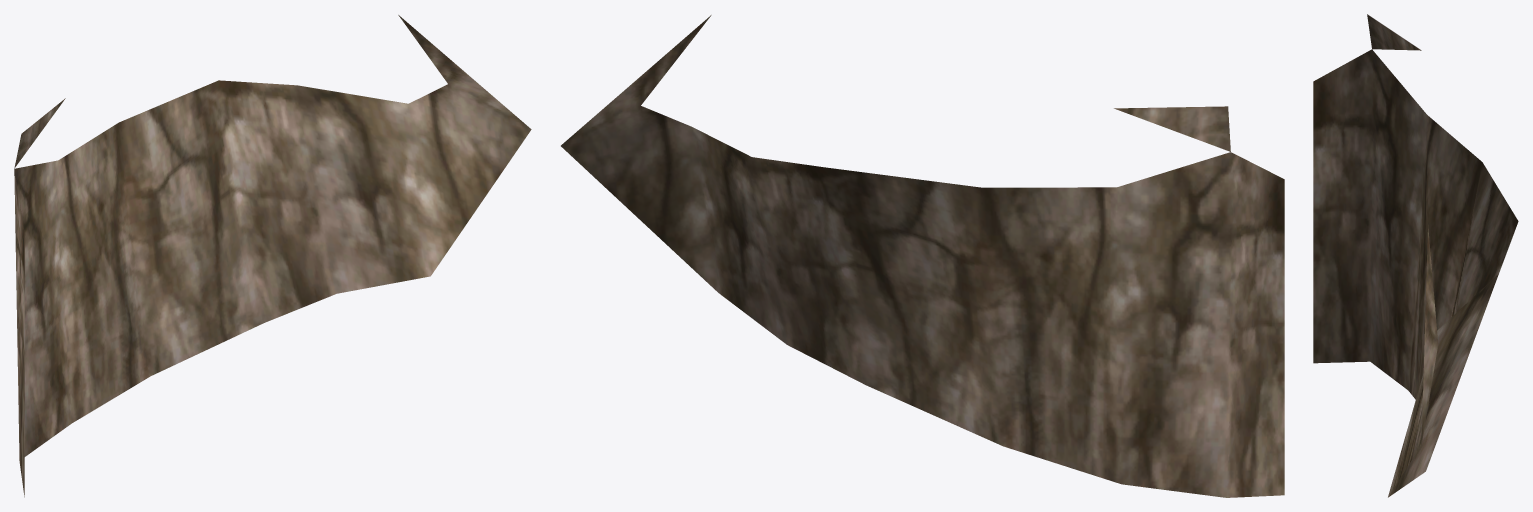
File: OVERHILL_A_01_OBJECT151.fbx
The picture shows the model from 3 angles, left to right: view 1: azimuth 30°, elevation 25°; view 2: azimuth 150°, elevation 25°; view 3: azimuth 270°, elevation 25°; orthographic projection. The views are drawn at different scales.
Visible parts, largest first — view 1: OVERHILL_A_01_OBJECT151; view 2: OVERHILL_A_01_OBJECT151; view 3: OVERHILL_A_01_OBJECT151.
Part boxes in pixels (x1,y1,x2,y2): OVERHILL_A_01_OBJECT151: [14, 15, 531, 497]; OVERHILL_A_01_OBJECT151: [561, 15, 1284, 497]; OVERHILL_A_01_OBJECT151: [1313, 14, 1518, 497].
Size of the model in its own units: 92369 by 53809 by 27734.
1 material, 1 textured.
